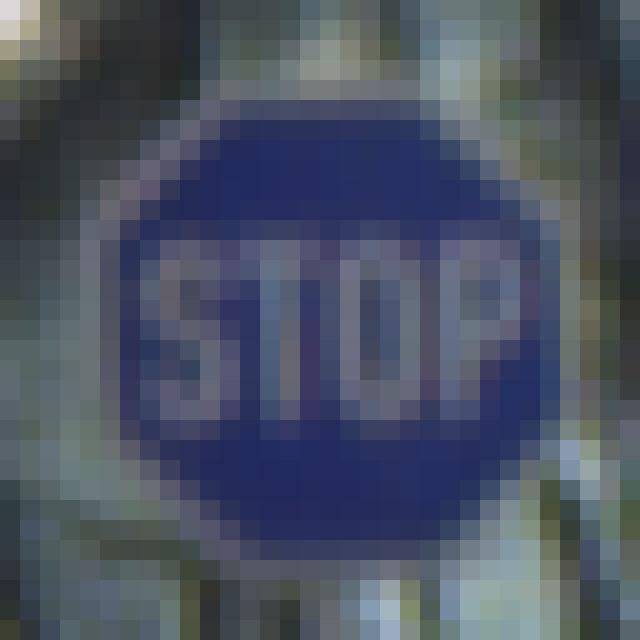STOP: (88, 102, 576, 568)
